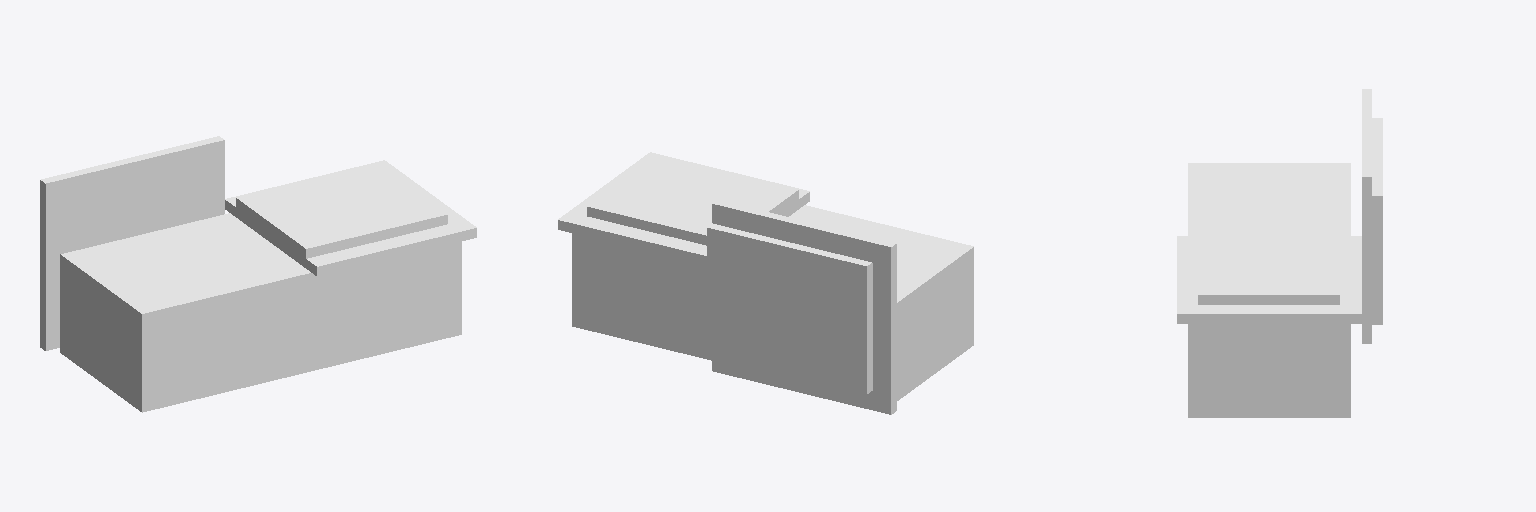
The model's file is Tumba.obj.
The picture shows the model from 3 angles: view 1: azimuth 30°, elevation 25°; view 2: azimuth 150°, elevation 25°; view 3: azimuth 270°, elevation 25°; orthographic projection.
Visible parts, largest first — view 1: object 1; view 2: object 1; view 3: object 1.
Boxes of the visible parts, x1=… form: object 1: x1=40, y1=136, x2=476, y2=412; object 1: x1=558, y1=152, x2=973, y2=414; object 1: x1=1177, y1=89, x2=1382, y2=417.
Bounding box in the file's own units: 3.6 × 1.7 × 1.9.